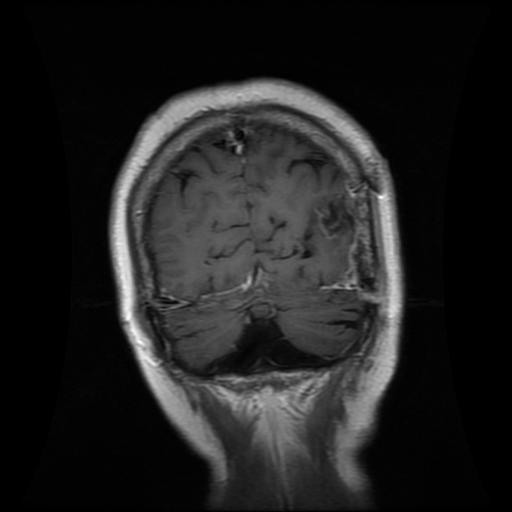Gliomia_tumour: (313, 193, 355, 240)
